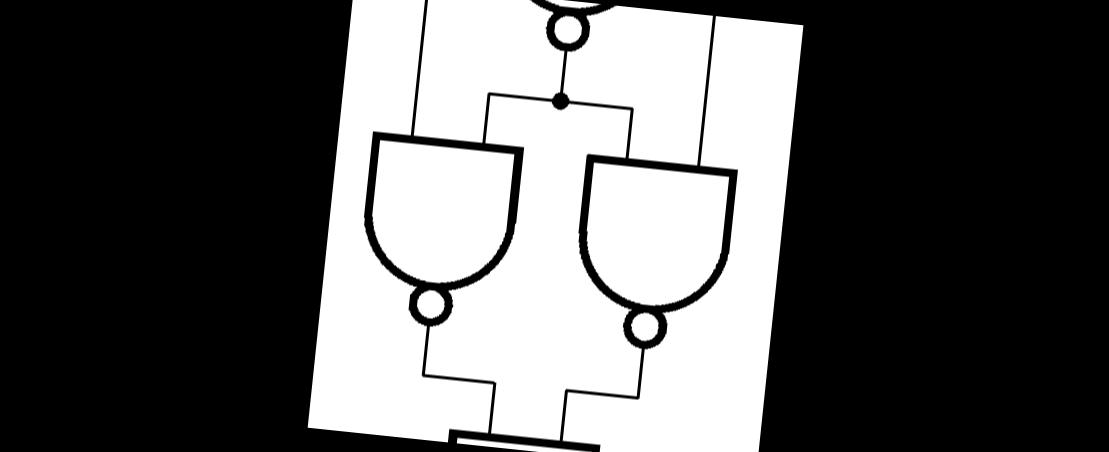nand: (342, 118, 534, 346), (556, 140, 744, 367), (477, 0, 655, 78)
